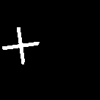single_crochet: (2, 28, 38, 63)
